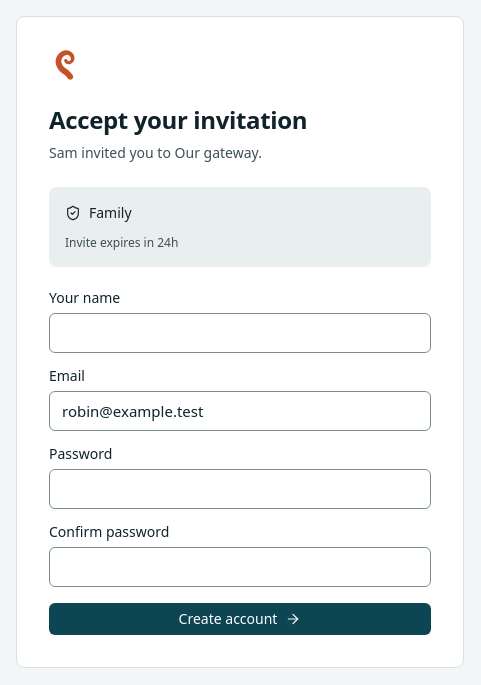
it: Invite: the welcome card's line on prompts › says prompts are kept, private, and where to change it
Step 1. Type "Robin" into the field labelled "Your name" → (240, 333), box [49,313,431,353]
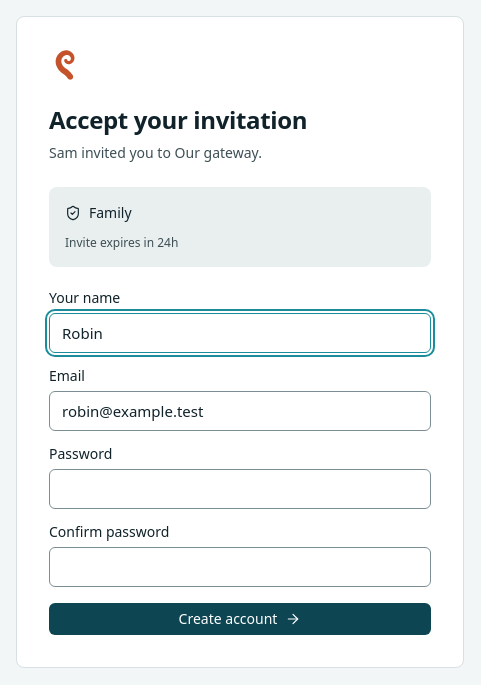
Step 2. Type "long-enough-password" into the password field labelled "Password" → (240, 489), box [49,469,431,509]
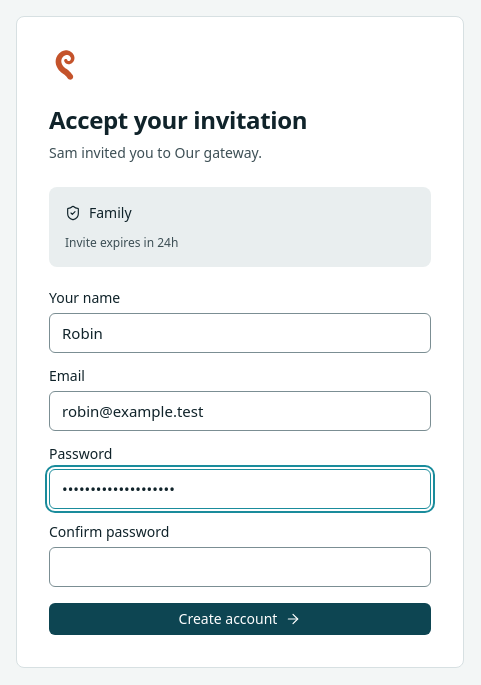
Step 3. Type "long-enough-password" into the password field labelled "Confirm password" → (240, 567), box [49,547,431,587]
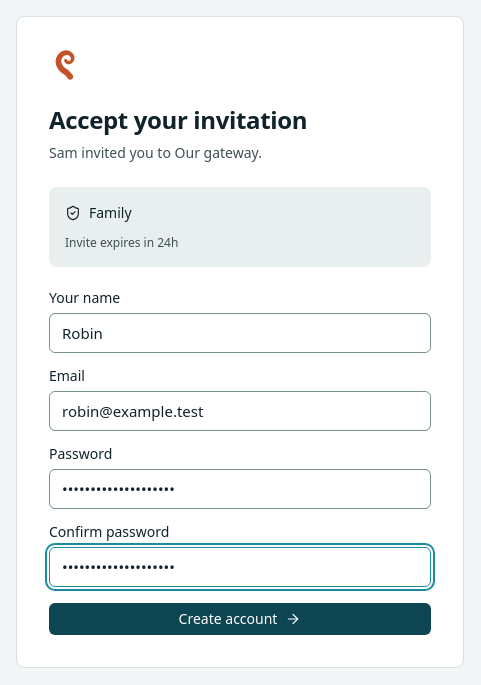
Step 4. Click the button "Create account" → (240, 619), box [49,603,431,635]
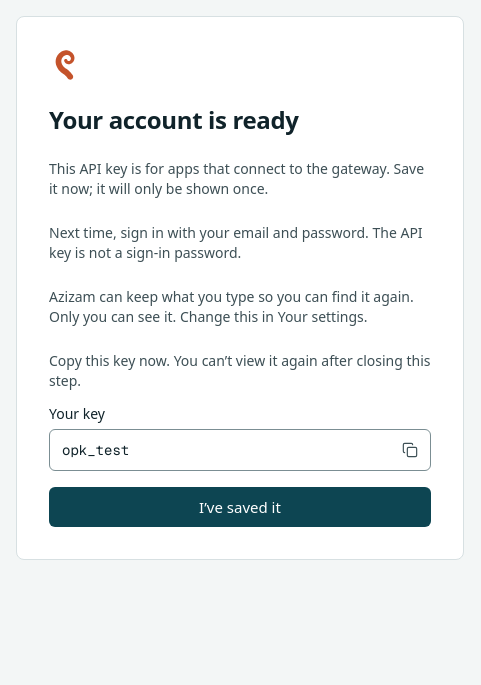
Check: the heading "Your account is ready" is shown, box [49,103,299,136]
Check: the text "Azizam can keep what you type so you can find it again. Only you can see it. Change this in Your settings." is shown, box [49,287,414,326]
